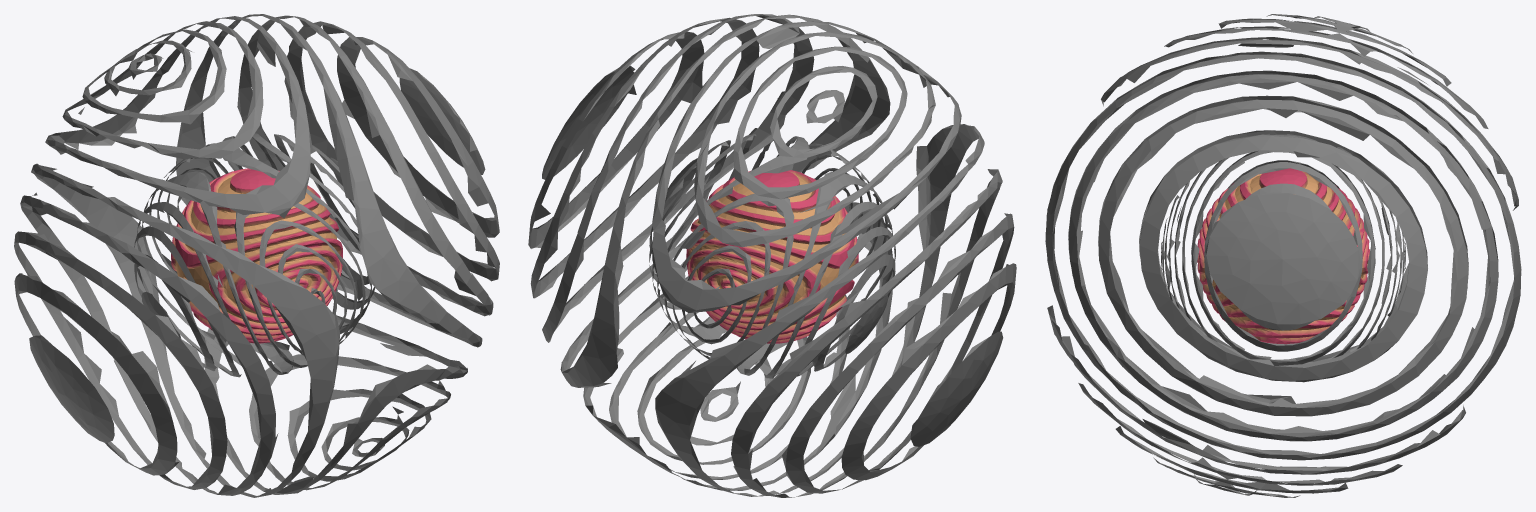
3 views of the same model, side by side, from view 1: azimuth 30°, elevation 25°; view 2: azimuth 150°, elevation 25°; view 3: azimuth 270°, elevation 25° (orthographic).
Parts seen in each view (by area): view 1: sphere1_2, sphere1_1, sphere; view 2: sphere1_2, sphere1_1, sphere; view 3: sphere1_2, sphere1_1, sphere.
Part boxes in pixels (<box>): sphere1_2: <box>14,14,499,497</box>; sphere1_1: <box>134,133,375,377</box>; sphere: <box>171,168,342,343</box>; sphere1_2: <box>528,14,1016,497</box>; sphere1_1: <box>649,134,895,378</box>; sphere: <box>686,170,858,343</box>; sphere1_2: <box>1045,14,1521,497</box>; sphere1_1: <box>1161,134,1405,365</box>; sphere: <box>1197,168,1369,344</box>.
Size of the model in its own units: 5285 by 5204 by 5101.
